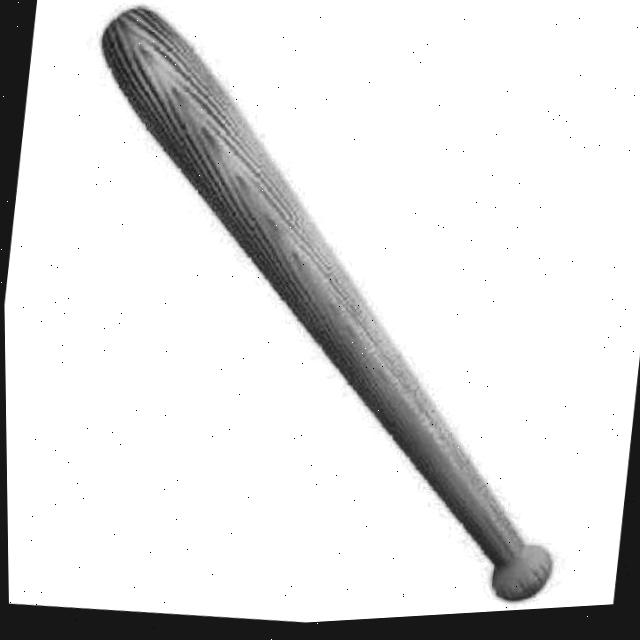tongkat pemukul: (90, 0, 569, 610)
